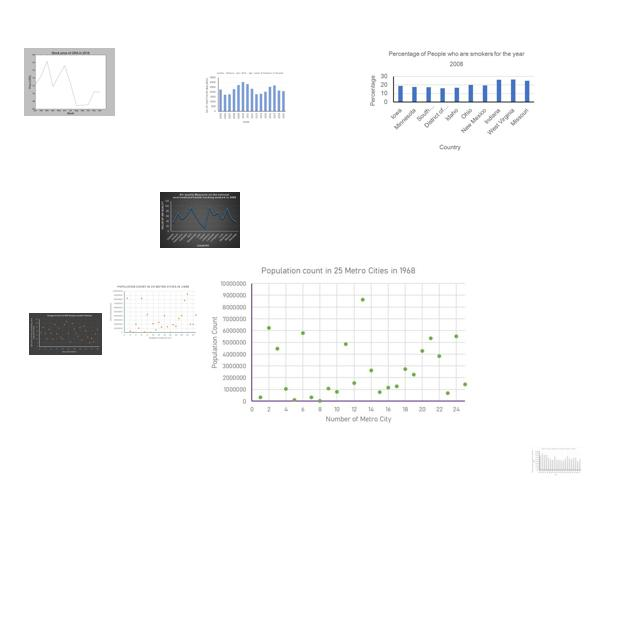Graph: (208, 264, 475, 425), (365, 46, 538, 152), (24, 48, 115, 116), (109, 285, 199, 340), (204, 71, 287, 125), (160, 192, 240, 248), (29, 313, 102, 355), (531, 447, 582, 476)
